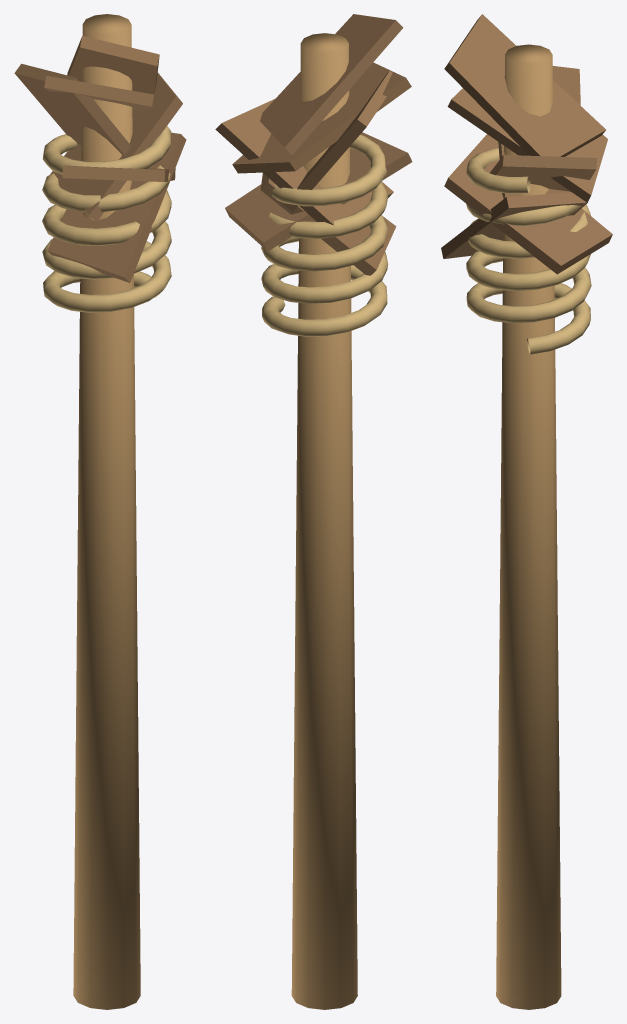
File: torch_unlit.glb
3 renders of one model, left to right at view 1: azimuth 30°, elevation 25°; view 2: azimuth 150°, elevation 25°; view 3: azimuth 270°, elevation 25°, orthographic. The views are drawn at different scales.
Parts seen in each view (by area): view 1: torch_shaft, torch_lashing, torch_wrap_0, torch_wrap_2, torch_wrap_3, torch_wrap_5, torch_wrap_4, torch_wrap_1; view 2: torch_shaft, torch_lashing, torch_wrap_5, torch_wrap_4, torch_wrap_1, torch_wrap_2, torch_wrap_3, torch_wrap_0; view 3: torch_shaft, torch_lashing, torch_wrap_5, torch_wrap_1, torch_wrap_4, torch_wrap_0, torch_wrap_2, torch_wrap_3.
Boxes of the visible parts, x1,y1,x2,y2 form: torch_shaft: (73,14,140,1009); torch_lashing: (42,126,171,312); torch_wrap_0: (47,132,186,282); torch_wrap_2: (50,72,182,221); torch_wrap_3: (14,63,148,168); torch_wrap_5: (67,36,159,94); torch_wrap_4: (44,75,153,110); torch_wrap_1: (62,165,175,181); torch_shaft: (291,33,357,1009); torch_lashing: (261,134,388,336); torch_wrap_5: (260,14,403,154); torch_wrap_4: (232,62,411,173); torch_wrap_1: (225,132,412,251); torch_wrap_2: (215,99,393,225); torch_wrap_3: (283,71,392,211); torch_wrap_0: (260,173,396,275); torch_shaft: (496,44,561,1009); torch_lashing: (466,148,591,354); torch_wrap_5: (444,14,605,156); torch_wrap_1: (444,134,612,274); torch_wrap_4: (447,88,607,202); torch_wrap_0: (441,192,587,258); torch_wrap_2: (490,155,597,191); torch_wrap_3: (498,66,580,198).
Bounding box in the file's own units: 0.1822 × 1.07 × 0.1737.
